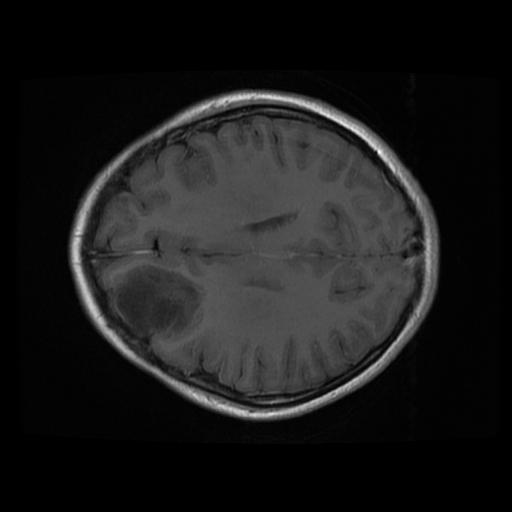glioma: (111, 262, 205, 343)
